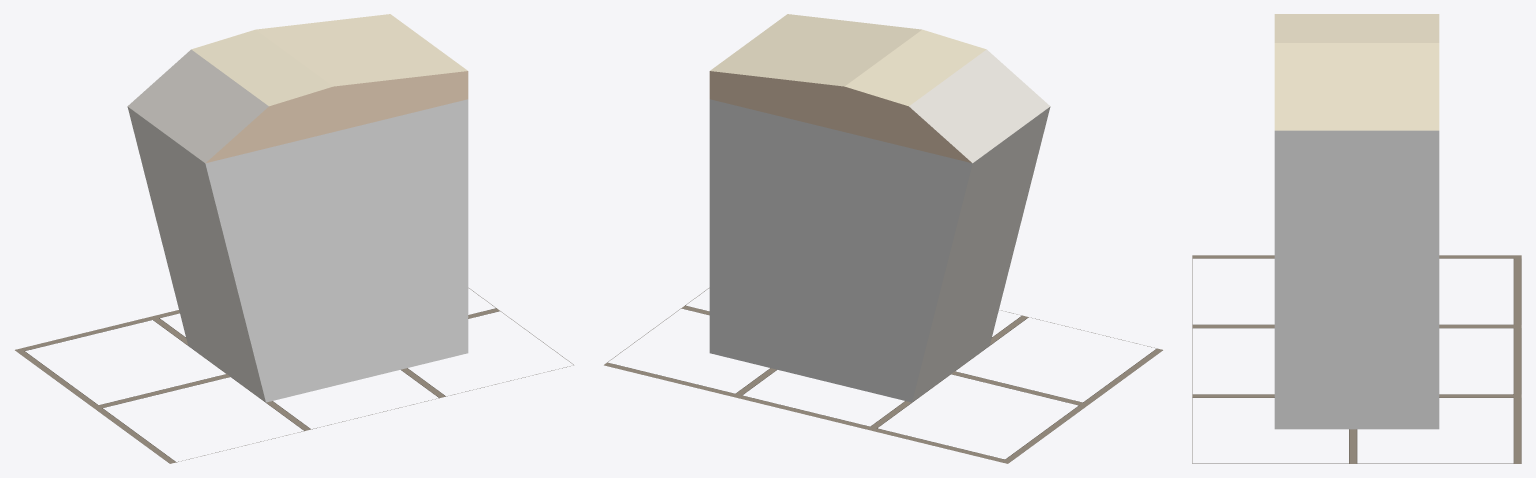
The model's file is Path_Bridge_Center_Top_1x2.glb.
3 renders of one model, left to right at view 1: azimuth 30°, elevation 25°; view 2: azimuth 150°, elevation 25°; view 3: azimuth 270°, elevation 25°, orthographic. The views are drawn at different scales.
Parts seen in each view (by area): view 1: Path_Bridge_Center_Top_1x2, Floor; view 2: Path_Bridge_Center_Top_1x2, Floor; view 3: Path_Bridge_Center_Top_1x2, Floor.
Part boxes in pixels (x1,y1,x2,y2): Path_Bridge_Center_Top_1x2: (127, 14, 468, 402); Floor: (15, 288, 573, 463); Path_Bridge_Center_Top_1x2: (709, 14, 1050, 402); Floor: (604, 288, 1162, 463); Path_Bridge_Center_Top_1x2: (1274, 14, 1439, 429); Floor: (1192, 255, 1521, 463).
Size of the model in its own units: 300 by 212 by 200.
Materials: 5 (1 with a texture image).
